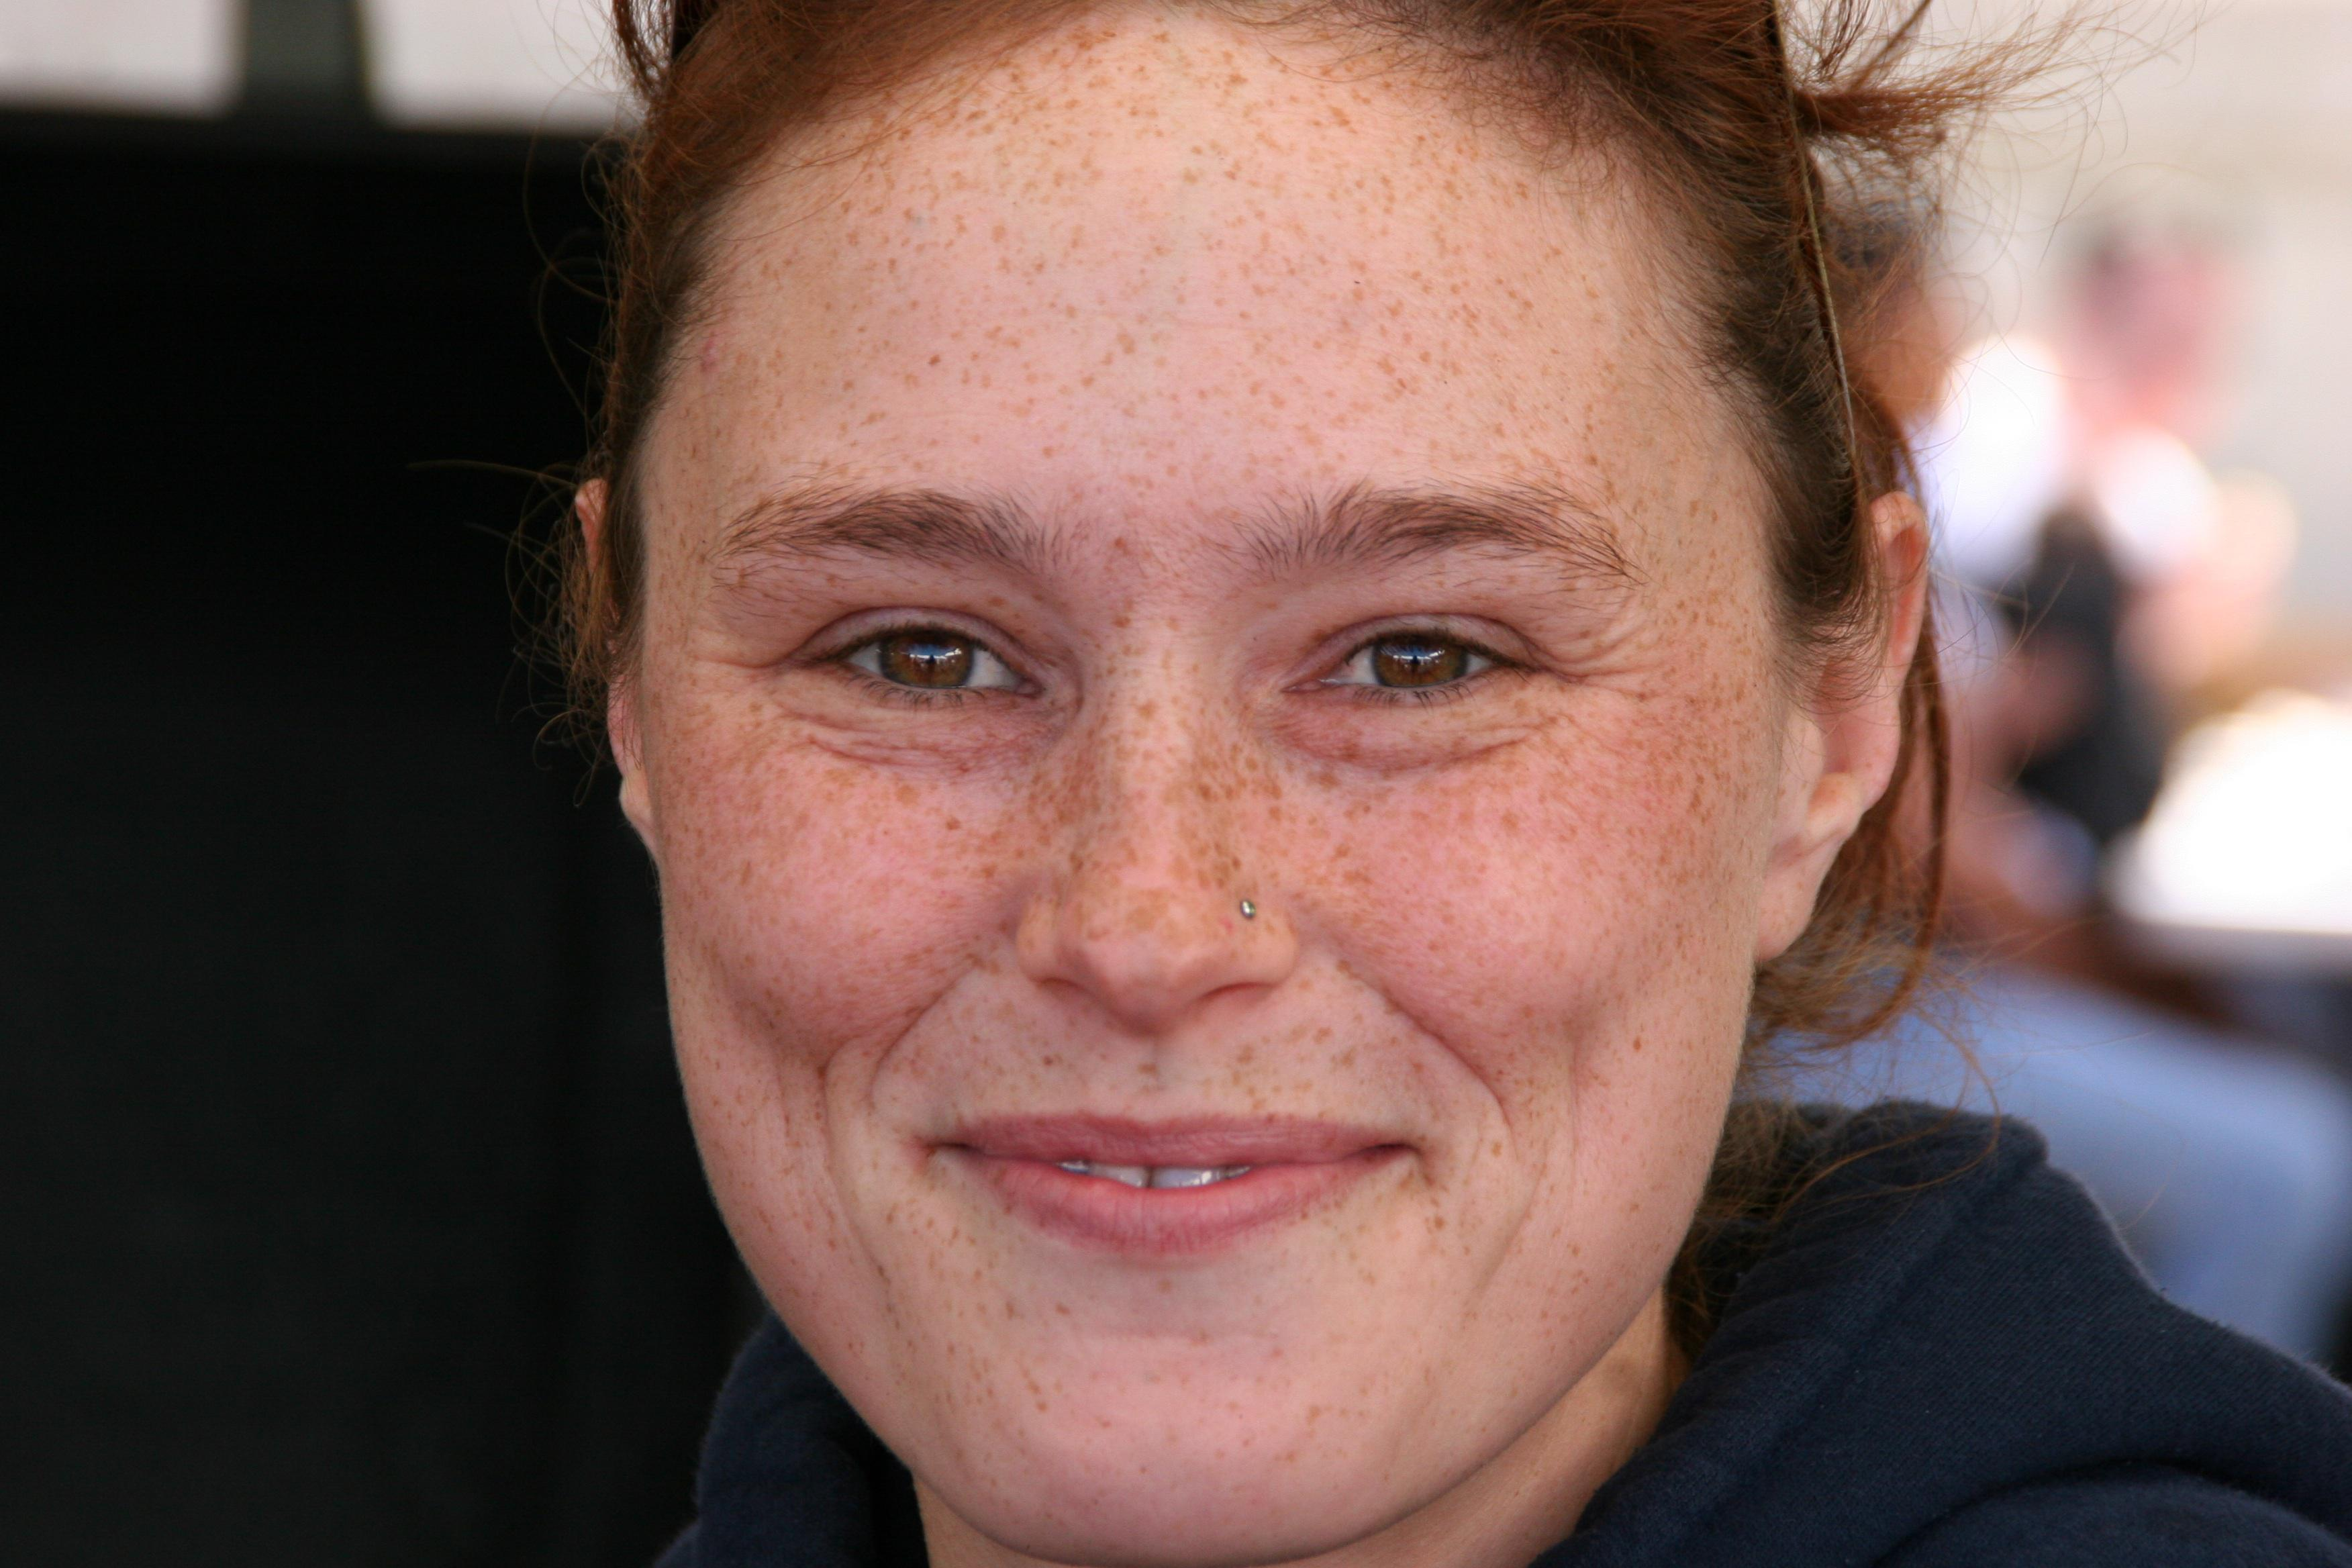Sober: (668, 179, 1754, 1377)
